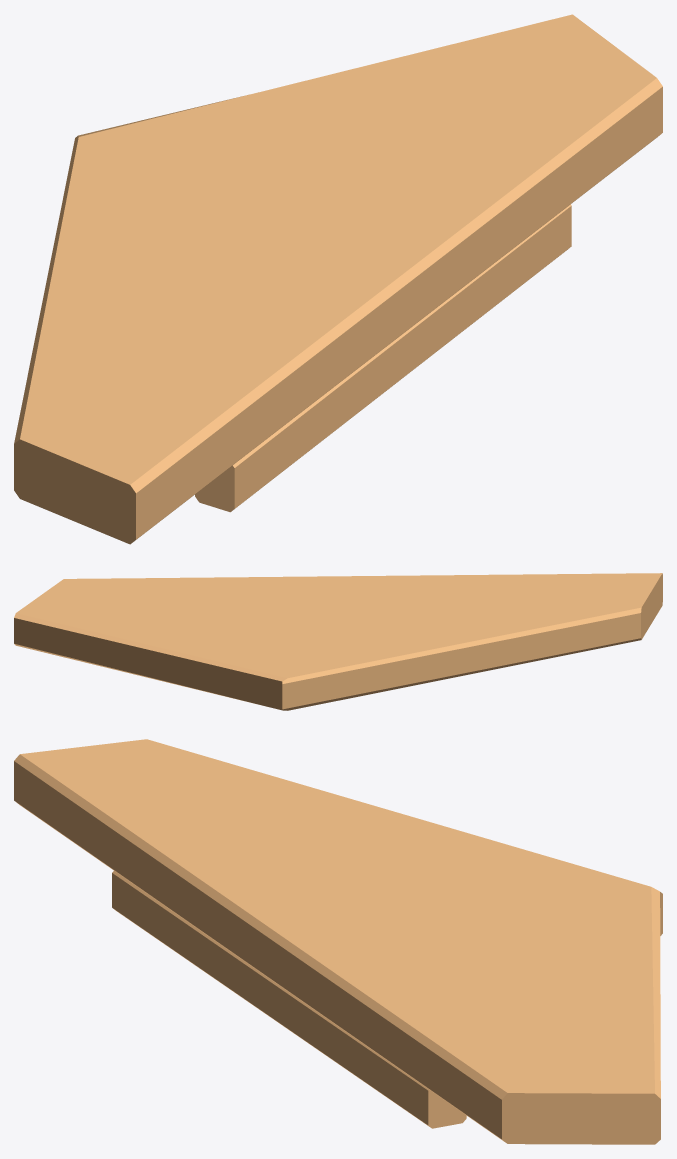
Rendered from stufe 3.fbx.
The picture shows the model from 3 angles, top to bottom: view 1: azimuth 30°, elevation 25°; view 2: azimuth 150°, elevation 25°; view 3: azimuth 270°, elevation 25°; orthographic projection. The views are drawn at different scales.
Visible parts, largest first — view 1: stufe 3; view 2: stufe 3; view 3: stufe 3.
Part boxes in pixels (x1,y1,x2,y2): stufe 3: [14, 14, 662, 544]; stufe 3: [14, 573, 662, 710]; stufe 3: [14, 739, 662, 1144].
Bounding box in the file's own units: 272 × 32.56 × 209.
